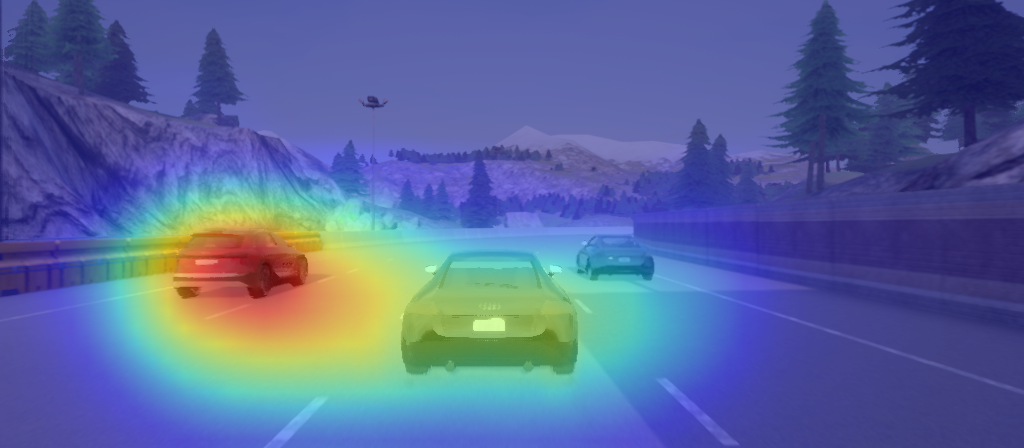Barrier: (689, 203, 1014, 265), (13, 244, 150, 280)
Car: (398, 247, 581, 381), (170, 224, 312, 305), (573, 232, 660, 283)
Lane Marker: (655, 373, 746, 448), (261, 393, 330, 448), (203, 302, 249, 322), (573, 294, 592, 318), (315, 273, 340, 286)
Light Pole: (354, 92, 393, 232)
